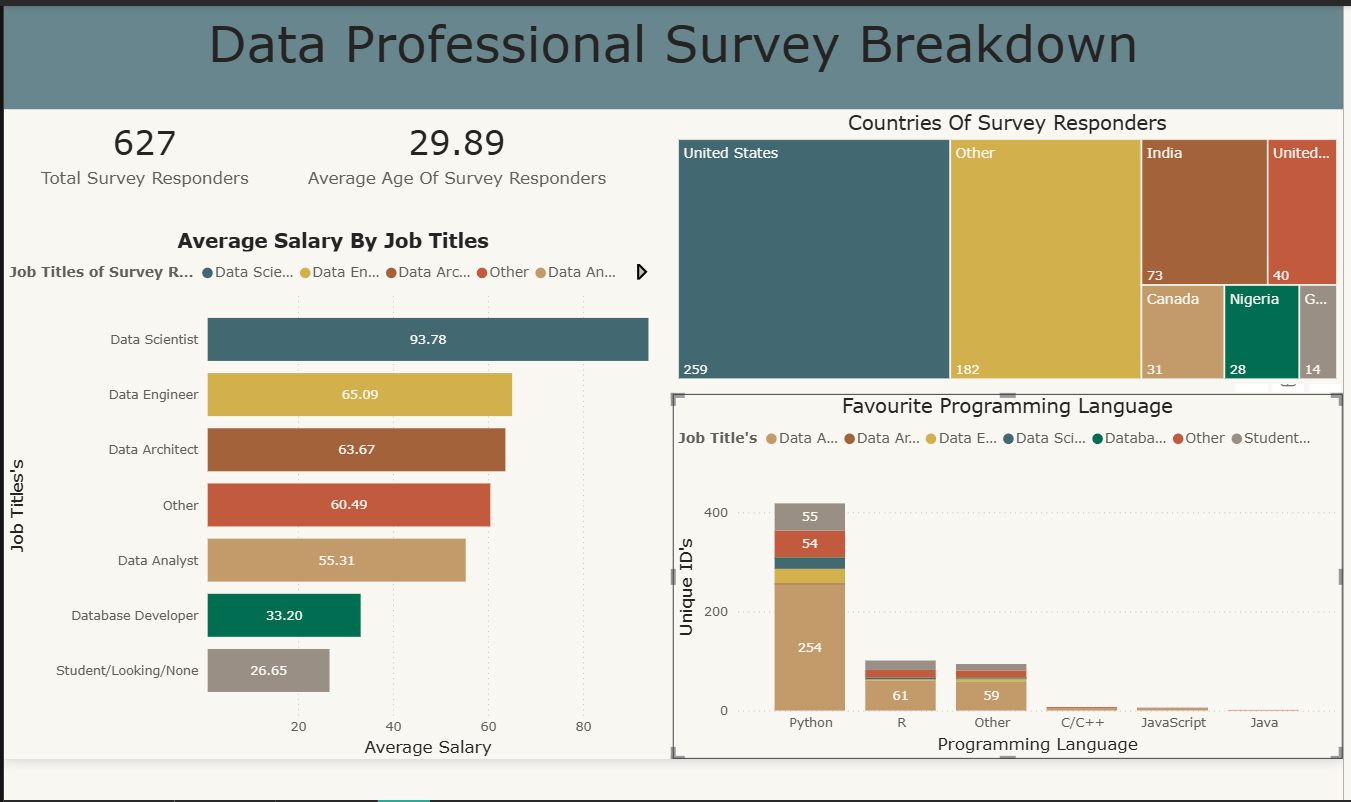

Layout of this report page (visuals, bound fields, positions):
{"tool":"powerbi","page":{"name":"Page 1","canvas":[1280,720],"ordinal":0},"visuals":[{"type":"card","fields":{"Values":["Count(Data Professional Survey.Unique ID)"]},"box":[10.8,98.5,248.3,83.7],"z":0},{"type":"card","fields":{"Values":["Avg(Data Professional Survey.Q10 - Current Age)"]},"box":[276.6,98.5,313,83.7],"z":1000},{"type":"barChart","title":"Average Salary By Job Titles","fields":{"Category":["Data Professional Survey.Q1 - Which Title Best Fits your Current Role?.1"],"Y":["Avg(Data Professional Survey.Average Salary)"],"Series":["Data Professional Survey.Q1 - Which Title Best Fits your Current Role?.1"]},"box":[0,211.8,628.7,510],"z":2000},{"type":"columnChart","title":"Favourite Programming Language","fields":{"Category":["Data Professional Survey.Q5 - Favorite Programming Language.1"],"Y":["CountNonNull(Data Professional Survey.Unique ID)"],"Series":["Data Professional Survey.Q1 - Which Title Best Fits your Current Role?.1"]},"box":[639.5,371,639.5,348.1],"z":3000},{"type":"treemap","title":"Countries Of Survey Responders","fields":{"Group":["Data Professional Survey.Q11 - Which Country do you live in ?"],"Values":["CountNonNull(Data Professional Survey.Unique ID)"]},"box":[639.5,99.8,639.5,261.7],"z":4000},{"type":"textbox","box":[0,0,1279.6,98.6],"z":5000}]}

Visuals, with their boxes on the page's 1280x720 design canvas (x1, y1, x2, y2). These are canvas units, not pixel positions in the 1351x802 screenshot, which may show the page scaled, cropped or inside an application window:
card - Count(Data Professional Survey.Unique ID): Rect(11, 98, 259, 182)
card - Avg(Data Professional Survey.Q10 - Current Age): Rect(277, 98, 590, 182)
"Average Salary By Job Titles" barChart: Rect(0, 212, 629, 722)
"Favourite Programming Language" columnChart: Rect(640, 371, 1279, 719)
"Countries Of Survey Responders" treemap: Rect(640, 100, 1279, 362)
textbox: Rect(0, 0, 1280, 99)
